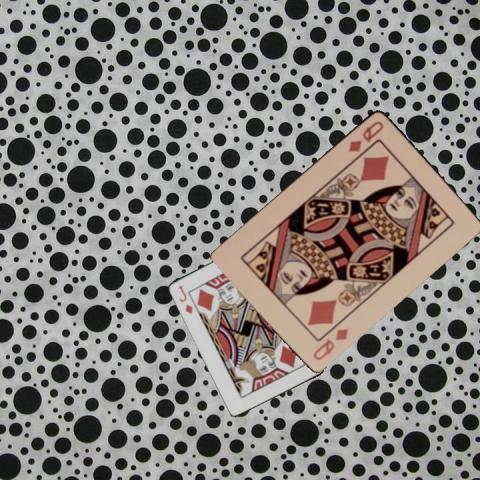Jd: (175, 282, 195, 315)
Qd: (346, 118, 386, 154), (310, 325, 349, 361)
